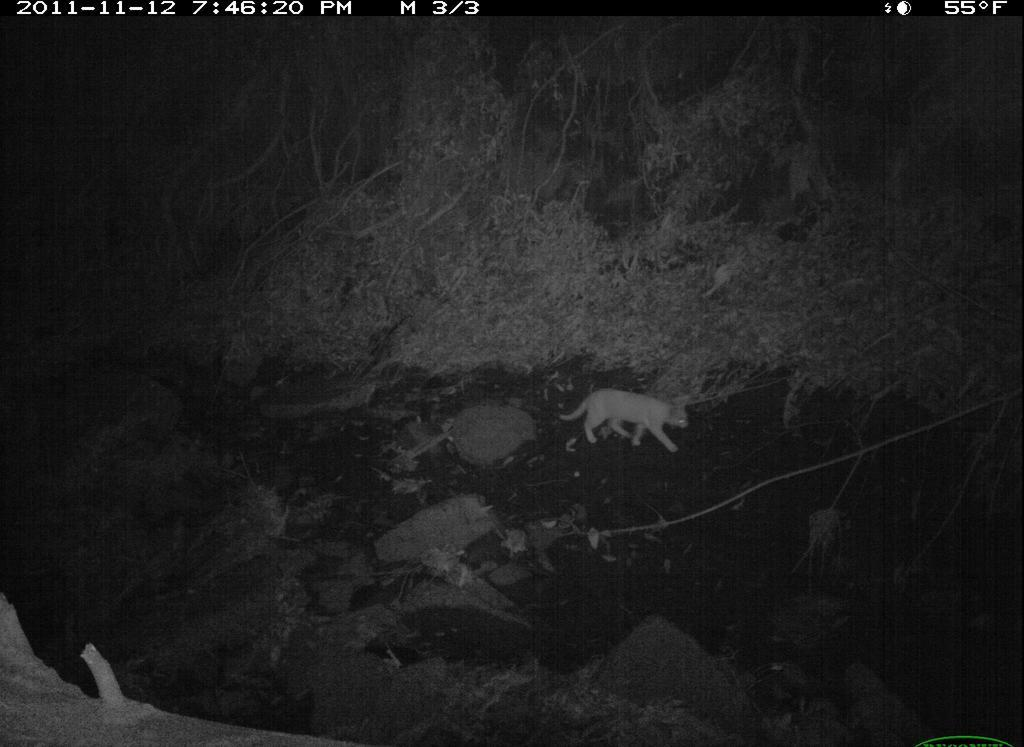cat: (551, 376, 693, 468)
